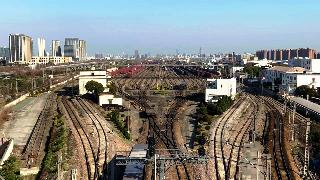train: (123, 145, 148, 180), (146, 108, 155, 116), (179, 81, 187, 89)
